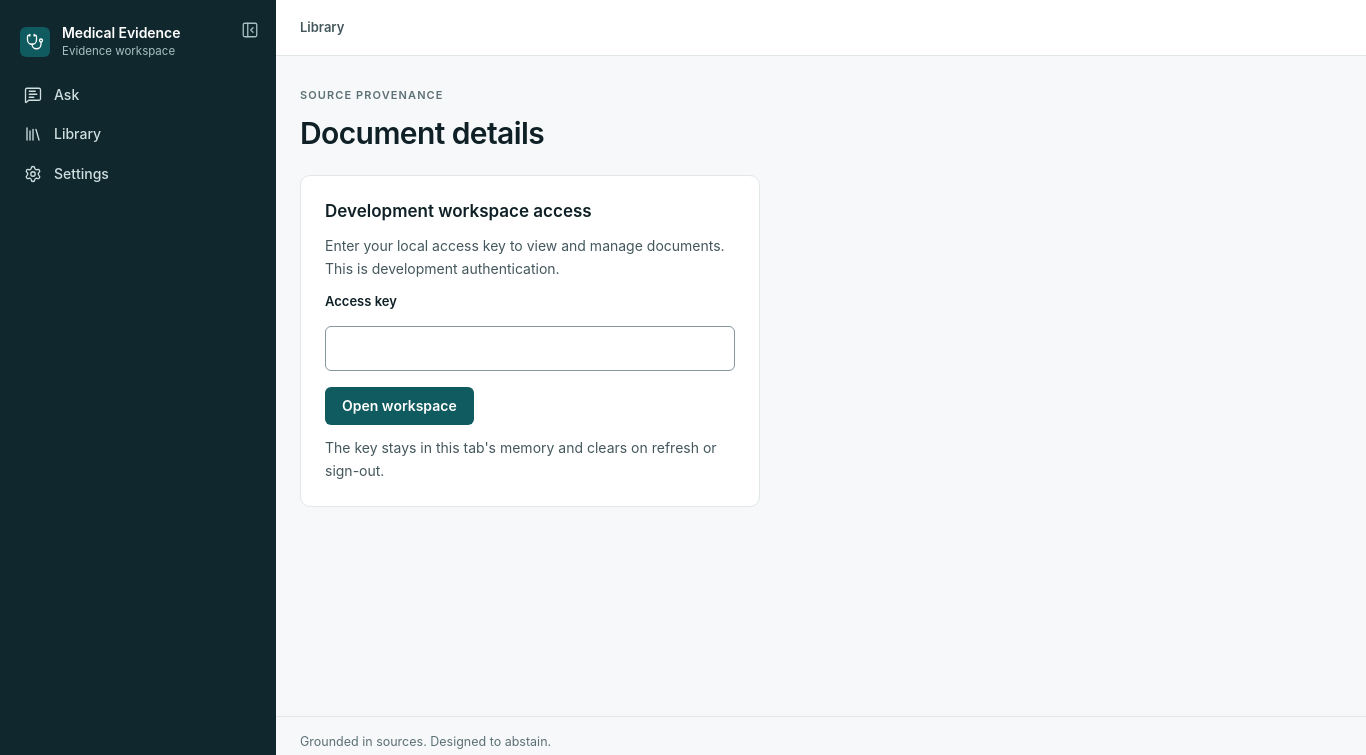
it: processing progress › counts elapsed time from the server clock, not the browser clock
Type "local-test-key" into the password field labelled "Access key". click: {"x": 530, "y": 349}
box: x1=325 y1=326 x2=735 y2=371
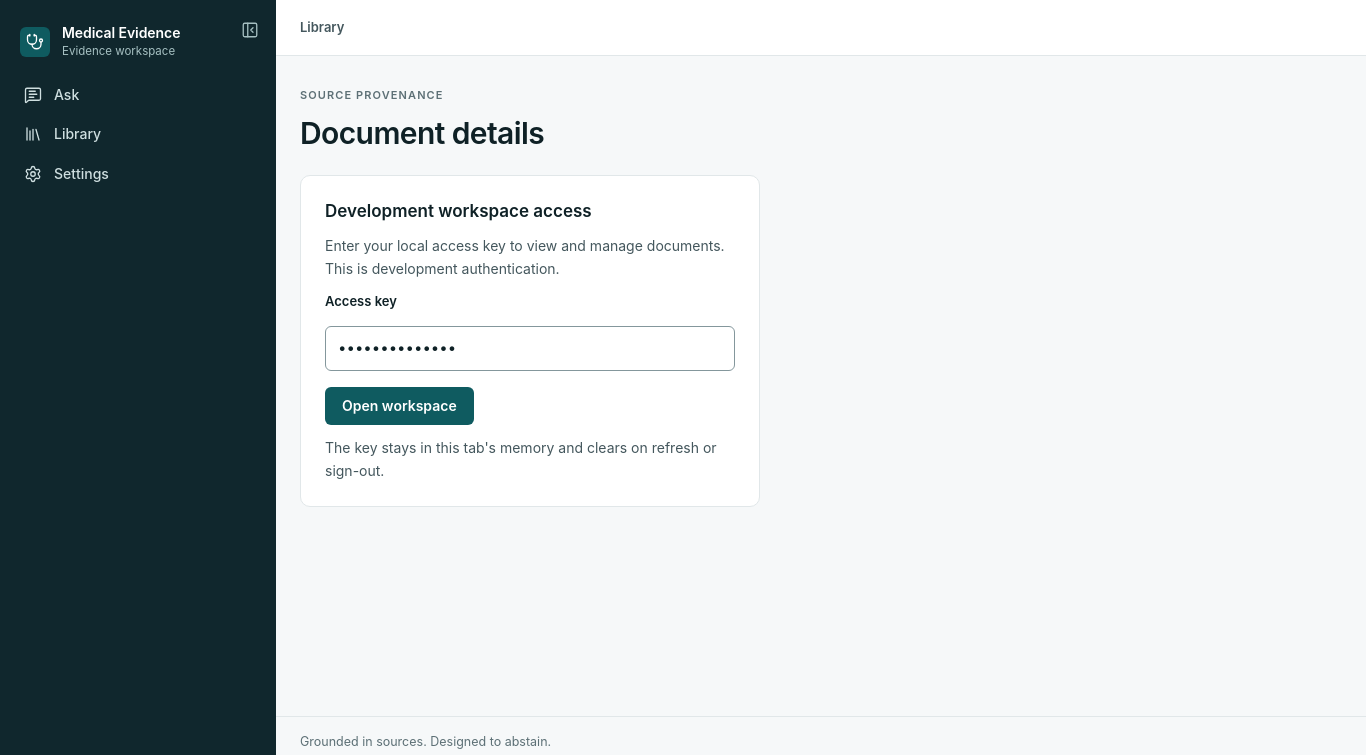
Click the button "Open workspace". click: {"x": 399, "y": 406}
box: x1=325 y1=387 x2=474 y2=425
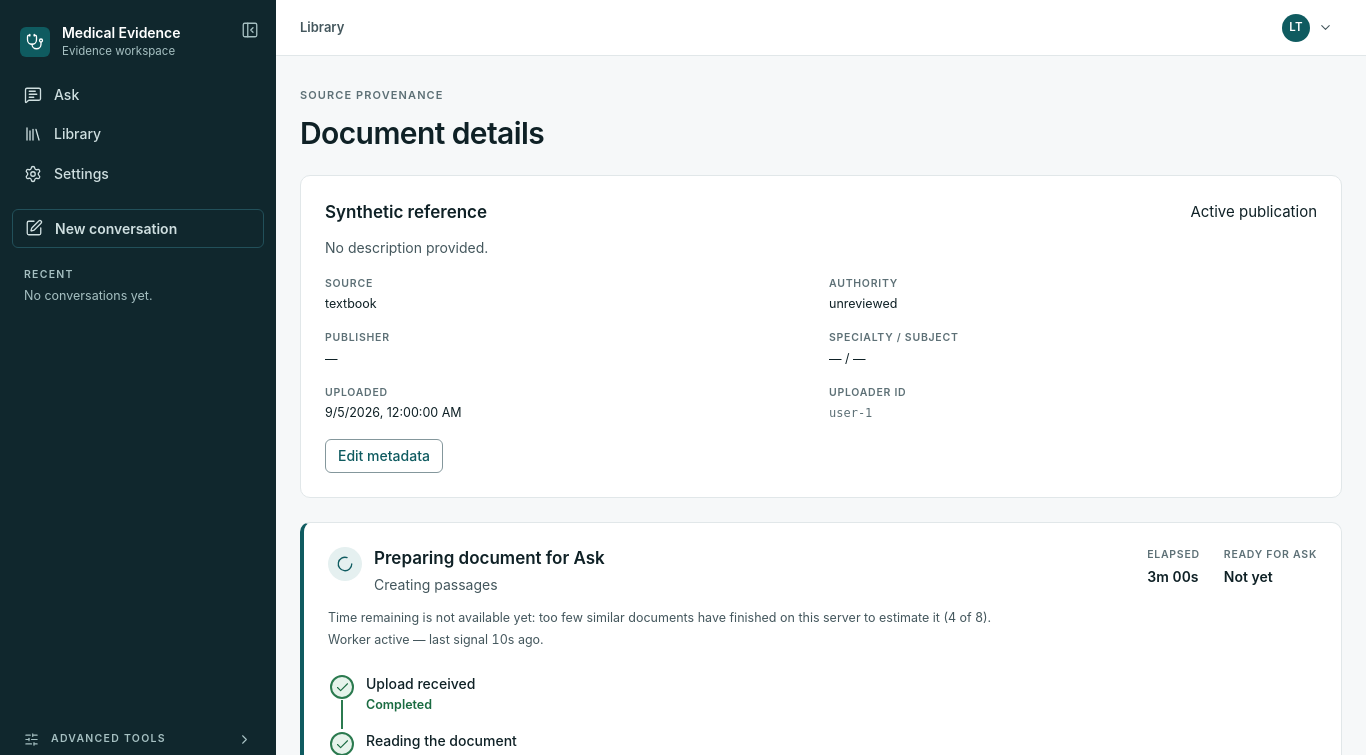
Expected: the button named "Account and workspace" is shown, x1=1277 y1=8 x2=1342 y2=46
Expected: the text "Not yet" is shown, x1=1224 y1=568 x2=1273 y2=585
